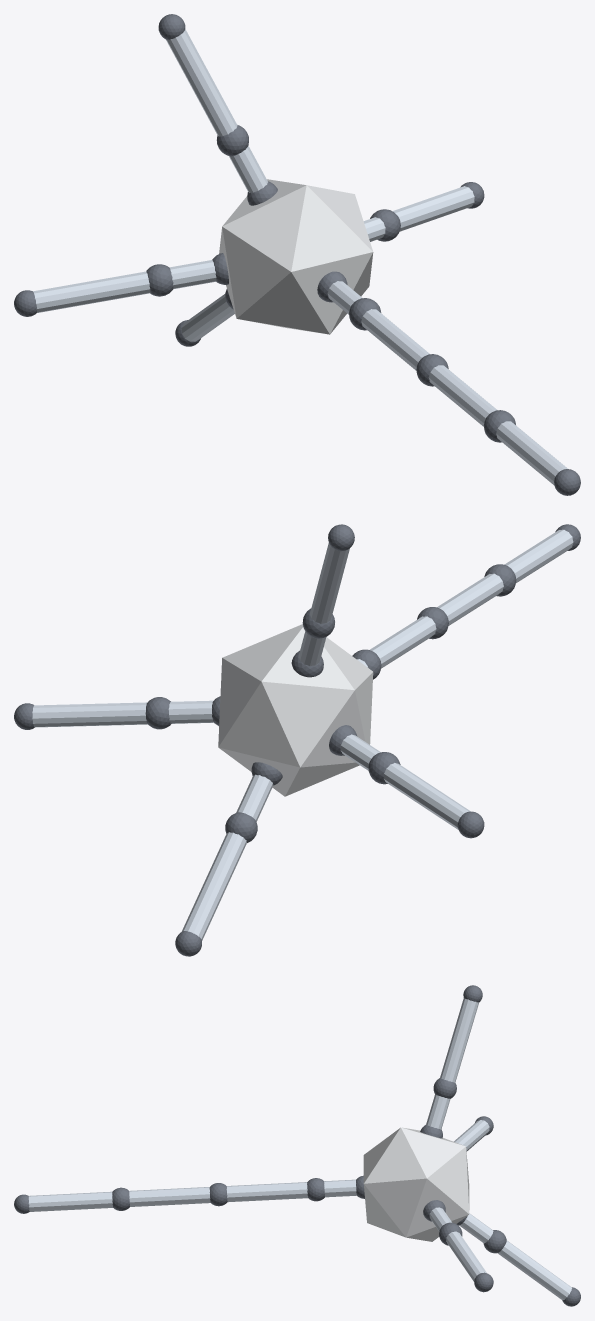
Rendered from g0_42222_1_abs.glb.
3 views of the same model, one above another, from view 1: azimuth 30°, elevation 25°; view 2: azimuth 150°, elevation 25°; view 3: azimuth 270°, elevation 25° (orthographic). The views are drawn at different scales.
Visible parts, largest first — view 1: geom_0, geom_13, geom_18, geom_28, geom_8, geom_6, geom_4, geom_23, geom_11, geom_16, geom_12, geom_17 (+1 smaller); view 2: geom_0, geom_28, geom_23, geom_13, geom_18, geom_8, geom_4, geom_6, geom_26, geom_21, geom_11, geom_27 (+7 smaller); view 3: geom_0, geom_8, geom_18, geom_4, geom_6, geom_23, geom_28, geom_13, geom_2, geom_16, geom_21.
Boxes of the visible parts, box(x1,y1,x2,y2) form: geom_0: box(219, 179, 373, 334); geom_13: box(33, 271, 150, 312); geom_18: box(166, 29, 237, 136); geom_28: box(392, 186, 474, 231); geom_8: box(496, 421, 567, 485); geom_6: box(428, 365, 497, 426); geom_4: box(361, 309, 429, 370); geom_23: box(181, 294, 234, 341); geom_11: box(169, 260, 216, 289); geom_16: box(229, 146, 267, 192); geom_12: box(146, 264, 173, 296); geom_17: box(216, 125, 248, 156); geom_0: box(218, 624, 373, 796); geom_28: box(32, 702, 147, 727); geom_23: box(181, 832, 246, 940); geom_13: box(383, 763, 470, 829); geom_18: box(310, 543, 349, 623); geom_8: box(504, 529, 573, 582); geom_4: box(370, 616, 436, 668); geom_6: box(437, 573, 503, 625); geom_26: box(168, 700, 213, 723); geom_21: box(236, 774, 273, 821); geom_11: box(340, 734, 380, 770); geom_27: box(145, 697, 171, 729); geom_0: box(363, 1127, 469, 1241); geom_8: box(28, 1191, 112, 1211); geom_18: box(440, 998, 478, 1082); geom_4: box(226, 1182, 307, 1202); geom_6: box(129, 1187, 210, 1206); geom_23: box(497, 1240, 571, 1300); geom_28: box(446, 1231, 486, 1281); geom_13: box(454, 1120, 489, 1151); geom_2: box(324, 1179, 356, 1197); geom_16: box(426, 1094, 450, 1129); geom_21: box(459, 1213, 493, 1243).
Bounding box in the file's own units: 0.479 × 0.3927 × 0.6969.
